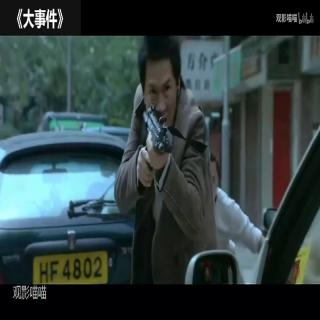gun: (137, 106, 170, 182)
